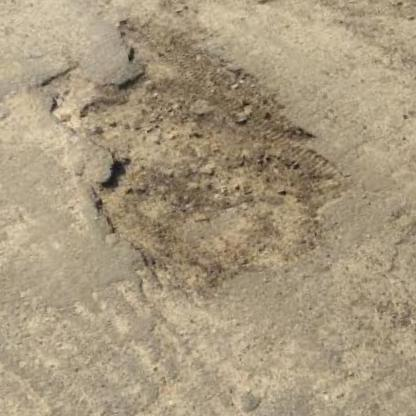pothole: (49, 20, 333, 310)
